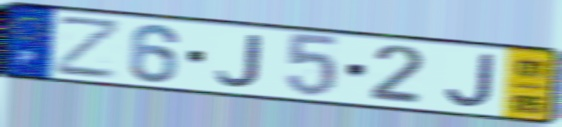2: (368, 43, 430, 107)
5: (284, 32, 340, 101)
6: (126, 21, 182, 85)
J: (442, 51, 499, 110), (214, 33, 263, 89)
Z: (54, 16, 125, 81)
